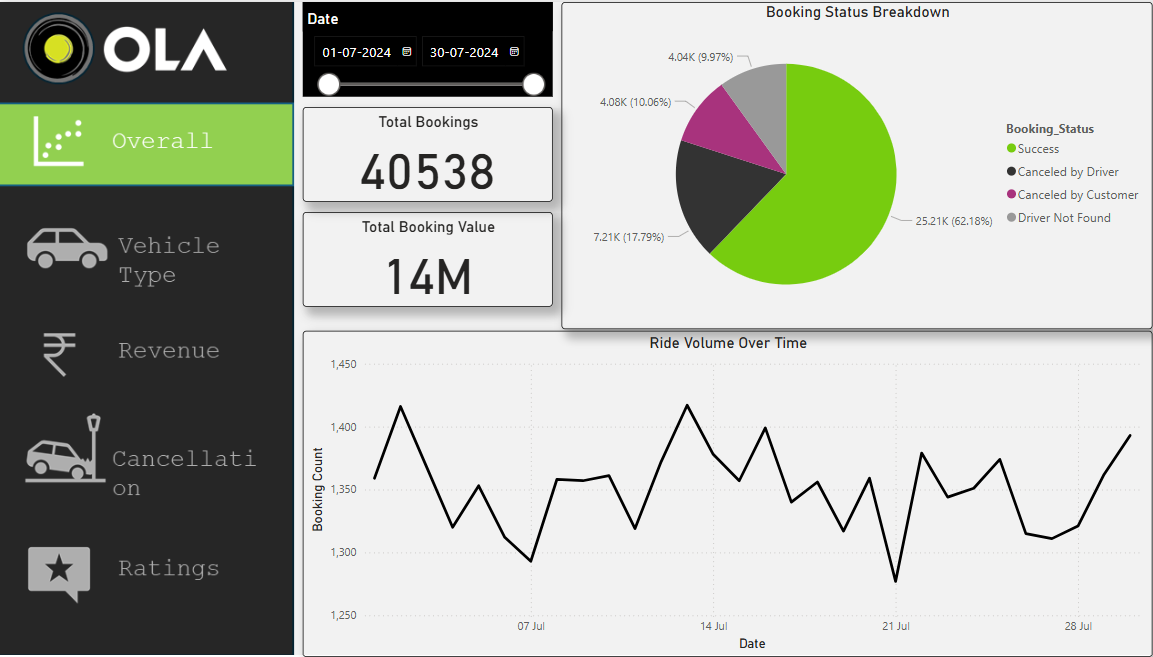

What the dashboard file says about the page in this screenshot:
{"tool":"powerbi","page":{"name":"Overall","canvas":[1280,720],"ordinal":0},"visuals":[{"type":"actionButton","box":[0,228.8,323.2,94.4],"z":0},{"type":"actionButton","box":[0,335.3,323.2,94.4],"z":1000},{"type":"actionButton","box":[0,450.3,323.2,94.4],"z":2000},{"type":"actionButton","box":[0,581,323.2,94.4],"z":3000},{"type":"lineChart","title":"Ride Volume Over Time","fields":{"Y":["CountNonNull(July.Booking_ID)"],"Category":["July.Date"]},"box":[333.4,360.9,933.1,359.5],"z":4000},{"type":"pieChart","title":"Booking Status Breakdown","fields":{"Category":["July.Booking_Status"],"Y":["CountNonNull(July.Booking_Status)"]},"box":[617.5,0,649.1,359.5],"z":5000},{"type":"slicer","title":"Date","fields":{"Values":["July.Date"]},"box":[333.4,0,274.4,104.3],"z":6000},{"type":"card","title":"Total Bookings","fields":{"Values":["CountNonNull(July.Booking_ID)"]},"box":[333.4,115.3,274.4,104.3],"z":7000},{"type":"card","title":"Total Booking Value","fields":{"Values":["Sum(July.Booking_Value)"]},"box":[333.4,230.5,274.4,104.3],"z":8000}]}

Visuals, with their boxes in screenshot pixels (x1, y1, x2, y2), scaled from the page's 1280x720 canvas onto the 1153x657 screenshot:
actionButton: 0,209,291,295
actionButton: 0,306,291,392
actionButton: 0,411,291,497
actionButton: 0,530,291,616
"Ride Volume Over Time" lineChart: 300,329,1141,656
"Booking Status Breakdown" pieChart: 556,0,1141,328
"Date" slicer: 300,0,547,95
"Total Bookings" card: 300,105,547,200
"Total Booking Value" card: 300,210,547,306
